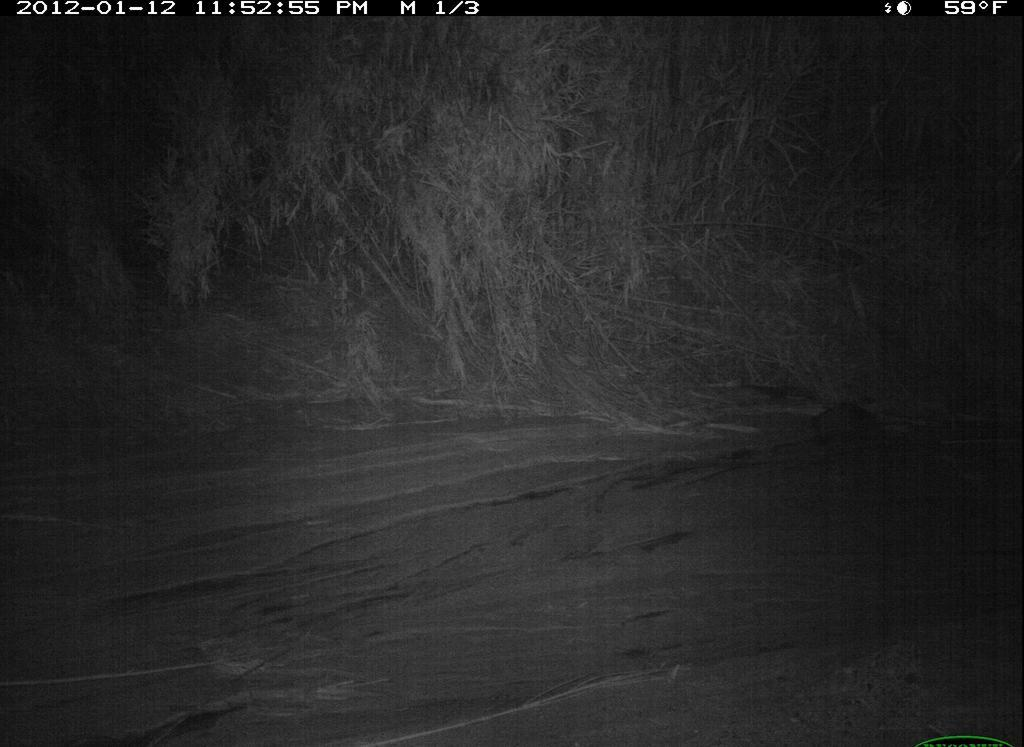opossum: (789, 387, 909, 463)
